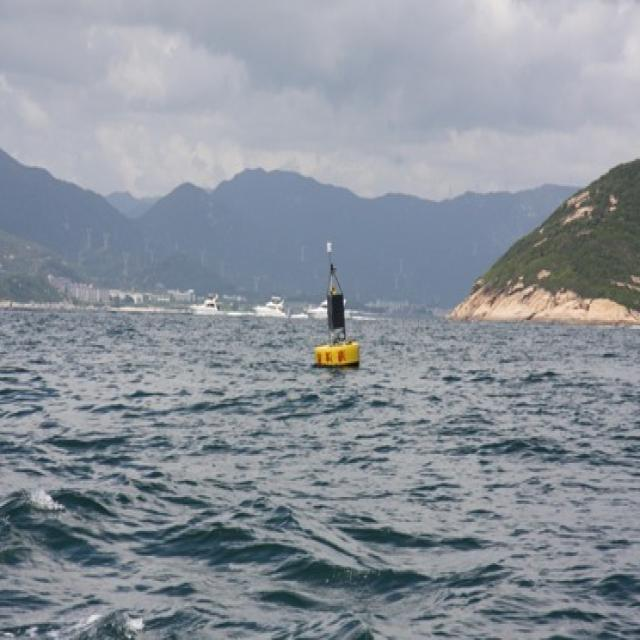buoy: (311, 239, 365, 367)
